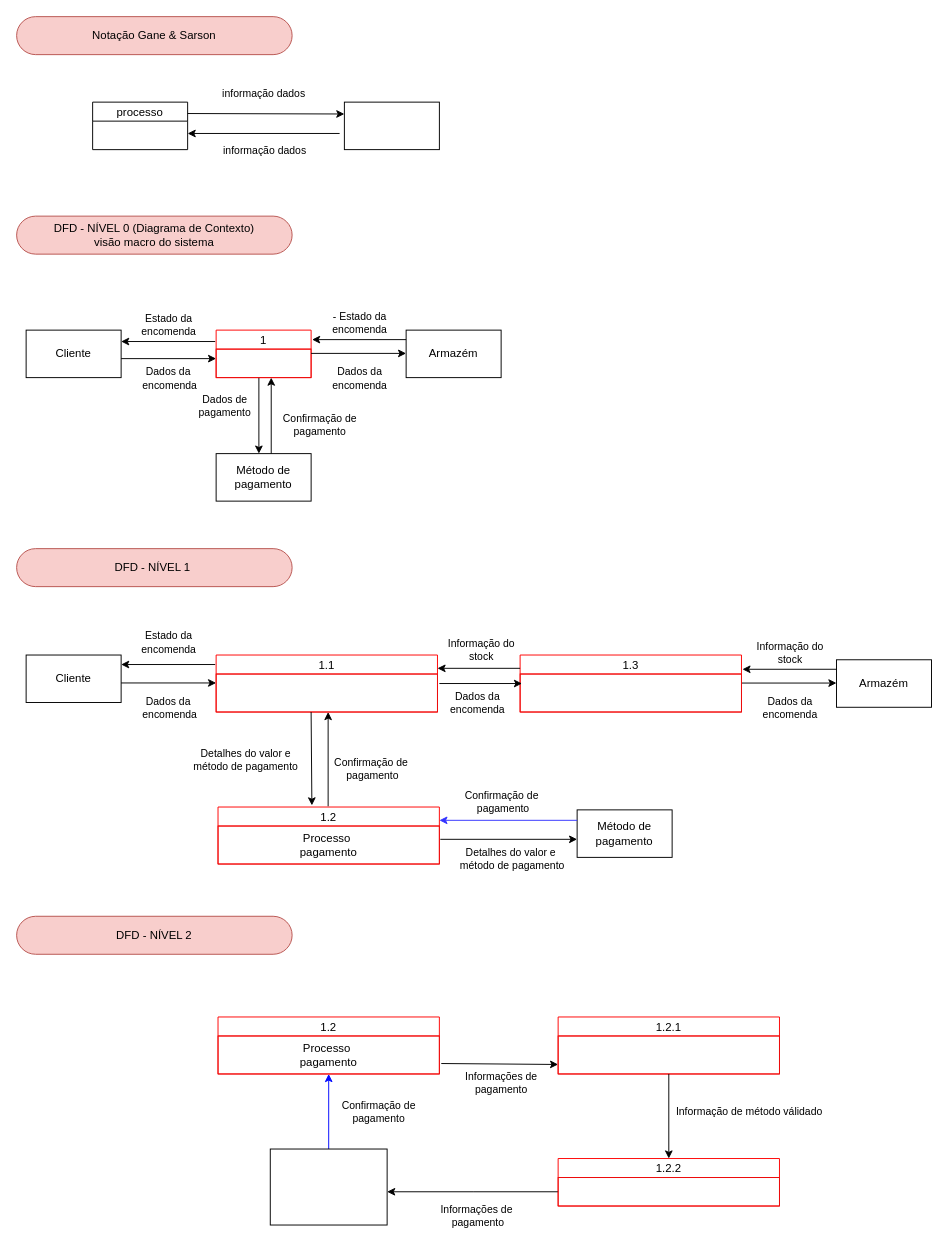
This 948x1245 diagram has some shape labels left out. Each missing label, with the box of its shape:
entidade externa / ator: (343, 101, 439, 150)
Gateway de pagamento: (269, 1148, 387, 1225)
Livraria Online: (215, 348, 311, 378)
Pedido de pagamento: (557, 1177, 779, 1206)
Processo - Encomenda do cliente (artigos, qts, preço): (215, 673, 437, 712)
Processo Verificação stock: (519, 673, 741, 712)
Validação do método de pagamento: (557, 1035, 779, 1074)
